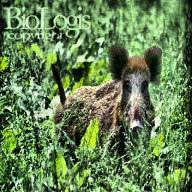boar: (45, 40, 182, 177)
